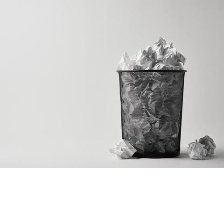book: (110, 32, 188, 160), (182, 136, 209, 162), (107, 137, 140, 158), (195, 133, 217, 156)
